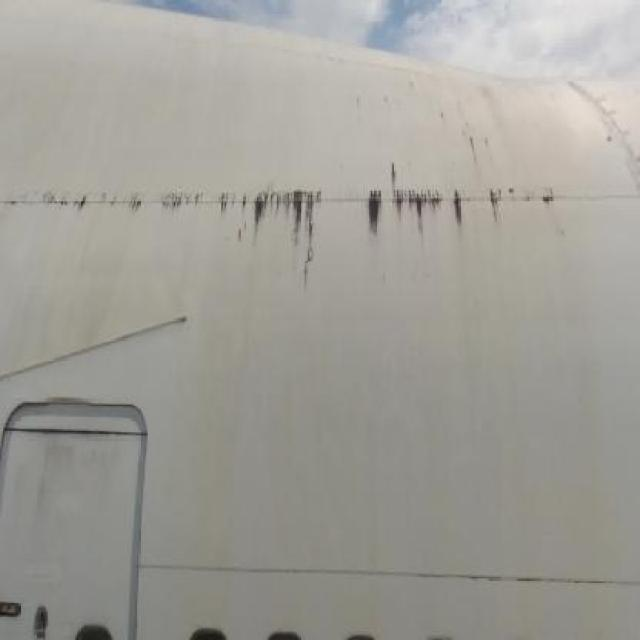Rust: (35, 182, 574, 290), (378, 76, 542, 199)
Scartch: (34, 436, 132, 521), (567, 79, 640, 173)
